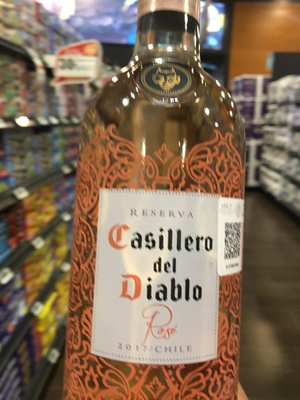casillero del diablo rose: (69, 1, 253, 400)
